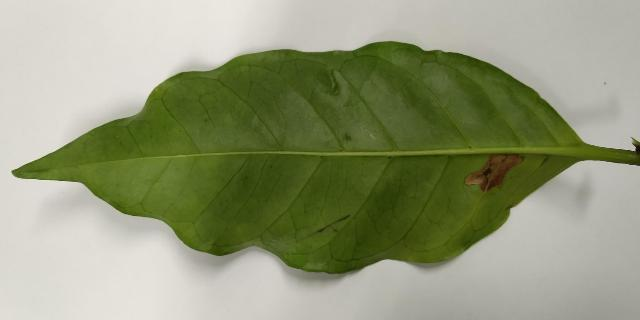cercospora: (465, 153, 523, 192)
